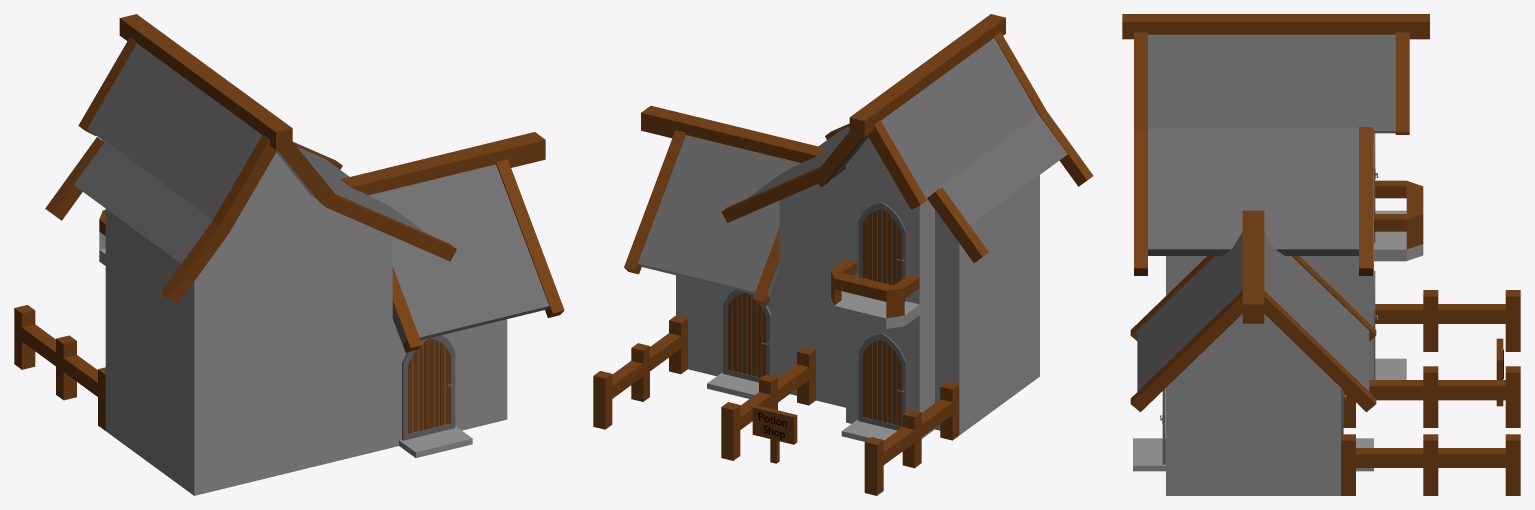
Rendered from House.fbx.
The picture shows the model from 3 angles, left to right: view 1: azimuth 30°, elevation 25°; view 2: azimuth 150°, elevation 25°; view 3: azimuth 270°, elevation 25°; orthographic projection. The views are drawn at different scales.
Visible parts, largest first — view 1: Cube.003, Cube.002, Cube.001, Cube.014, Cube.009, Plane.002, Cube, Cube.017, Cube.013, Cube.012, Cube.007, Cube.004 (+3 smaller); view 2: Cube.003, Cube.002, Cube.001, Cube.014, Cube.017, Cube.016, Cube.009, Plane.001, Plane.003, Cube, Cube.015, Plane.004 (+8 smaller); view 3: Cube.003, Cube.010, Cube.001, Cube.002, Cube.009, Cube.016, Cube.004, Cube.015, Cube.017, Cube.007, Cube.011, Cube (+1 smaller).
Part boxes in pixels (bbox=[...]): Cube.003: bbox=[99, 152, 507, 495]; Cube.002: bbox=[369, 164, 549, 344]; Cube.001: bbox=[88, 43, 318, 219]; Cube.014: bbox=[74, 140, 212, 263]; Cube.009: bbox=[119, 14, 292, 149]; Plane.002: bbox=[402, 335, 455, 440]; Cube: bbox=[340, 132, 545, 195]; Cube.017: bbox=[14, 305, 105, 430]; Cube.013: bbox=[45, 137, 228, 304]; Cube.012: bbox=[78, 37, 277, 232]; Cube.007: bbox=[293, 142, 456, 261]; Cube.004: bbox=[496, 159, 564, 317]; Cube.003: bbox=[676, 137, 1039, 441]; Cube.002: bbox=[637, 135, 800, 297]; Cube.001: bbox=[830, 38, 1038, 198]; Cube.014: bbox=[932, 115, 1067, 225]; Cube.017: bbox=[864, 381, 959, 495]; Cube.016: bbox=[593, 315, 687, 429]; Cube.009: bbox=[849, 14, 1005, 136]; Plane.001: bbox=[858, 333, 906, 430]; Plane.003: bbox=[723, 290, 771, 382]; Cube: bbox=[641, 105, 826, 162]; Cube.015: bbox=[721, 346, 815, 460]; Plane.004: bbox=[858, 202, 906, 301]; Cube.003: bbox=[1133, 133, 1423, 495]; Cube.010: bbox=[1148, 128, 1358, 255]; Cube.001: bbox=[1148, 34, 1395, 133]; Cube.002: bbox=[1137, 232, 1369, 391]; Cube.009: bbox=[1122, 14, 1429, 39]; Cube.016: bbox=[1341, 434, 1520, 495]; Cube.004: bbox=[1130, 290, 1376, 412]; Cube.015: bbox=[1343, 366, 1520, 427]; Cube.017: bbox=[1375, 290, 1520, 351]; Cube.007: bbox=[1134, 127, 1372, 275]; Cube.011: bbox=[1134, 32, 1409, 134]; Cube: bbox=[1242, 210, 1264, 323].
Size of the model in its own units: 2996 by 2414 by 2420.
